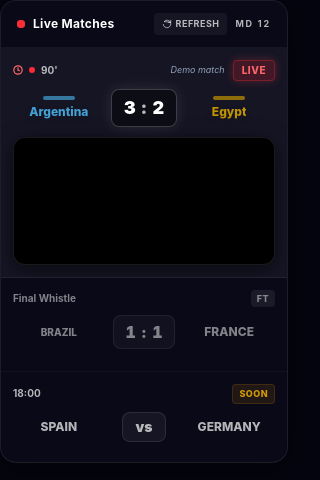
Scenario: LiveMatchFeed › renders match data after loading
Click the refresh button
Click the button "Refresh" at (190, 24), box top-left (154, 13), bottom-right (227, 34)
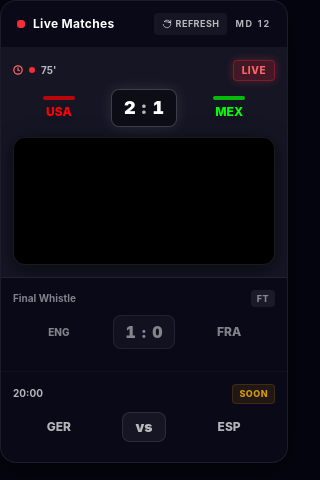
Expected: the text "USA" is shown, top-left (46, 104), bottom-right (72, 120)
Expected: the text "MEX" is shown, top-left (215, 104), bottom-right (243, 120)
Expected: the text "ENG" is shown, top-left (48, 326), bottom-right (70, 338)
